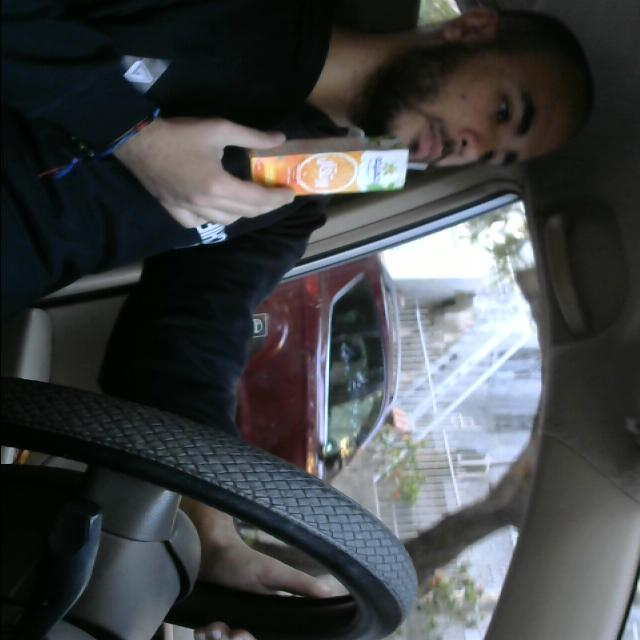drinking: (237, 132, 421, 200)
